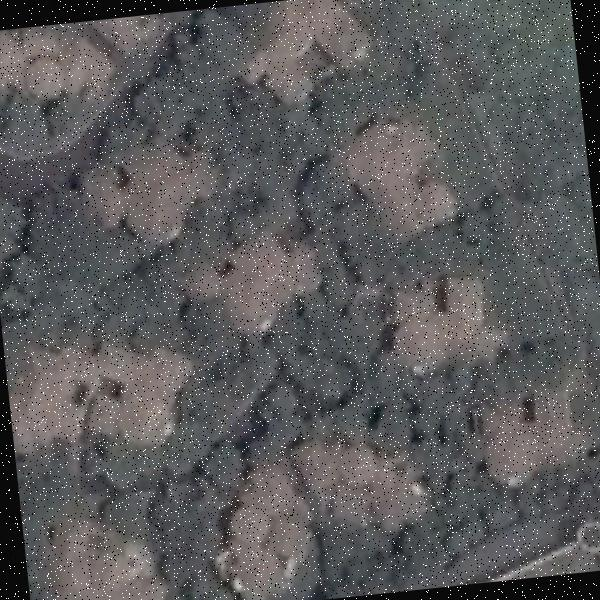Buildings: (4, 337, 180, 452), (0, 14, 161, 121), (215, 472, 306, 599), (41, 515, 165, 600), (344, 121, 440, 228), (245, 2, 356, 89), (394, 270, 487, 364), (308, 434, 410, 518), (482, 393, 575, 481), (215, 249, 306, 332)
